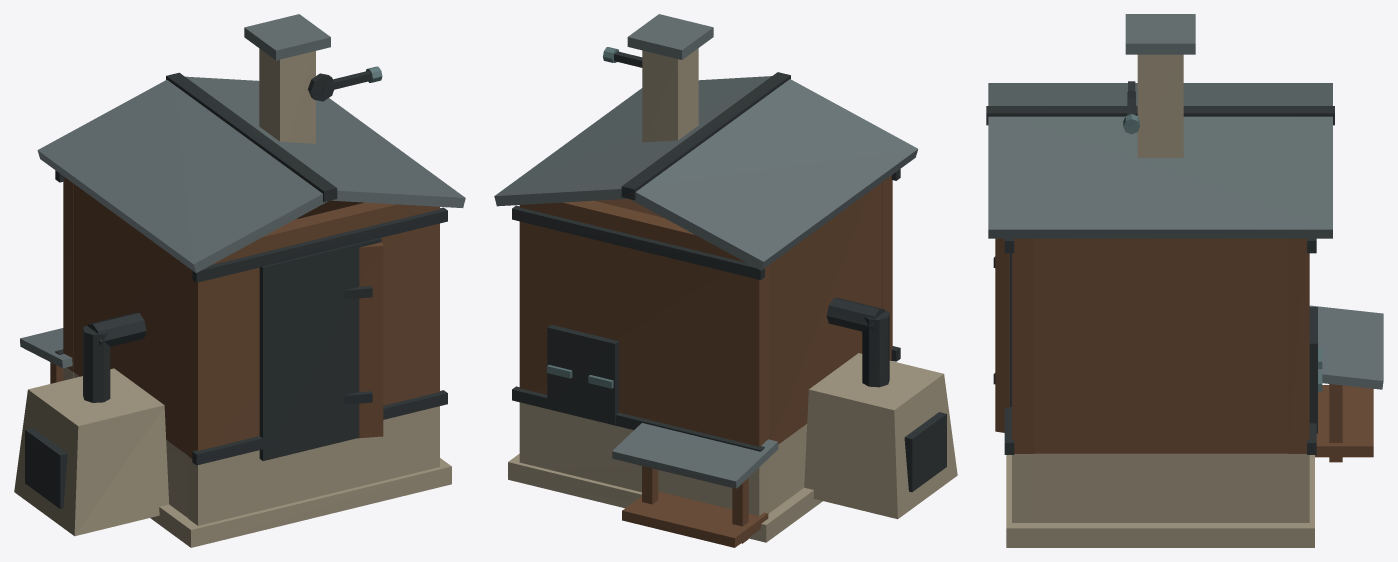
The model's file is smokehouse.source.glb.
3 views of the same model, side by side, from view 1: azimuth 30°, elevation 25°; view 2: azimuth 150°, elevation 25°; view 3: azimuth 270°, elevation 25° (orthographic). The views are drawn at different scales.
Parts seen in each view (by area): view 1: smokehouse-left-roof-panel-mesh, smokehouse-front-sealed-timber-wall-mesh, smokehouse-loading-door-dark-opening-mesh, smokehouse-left-sealed-timber-wall-mesh, smokehouse-masonry-firebox-body-mesh, smokehouse-front-stone-base-wall-mesh, smokehouse-right-roof-panel-mesh, smokehouse-foundation-slab-mesh, smokehouse-narrow-chimney-stack-mesh, smokehouse-heavy-timber-loading-door-mesh, smokehouse-front-sealing-band-2.72-mesh, smokehouse-roof-ridge-cap-mesh (+8 smaller); view 2: smokehouse-rear-sealed-timber-wall-mesh, smokehouse-left-roof-panel-mesh, smokehouse-left-sealed-timber-wall-mesh, smokehouse-masonry-firebox-body-mesh, smokehouse-right-roof-panel-mesh, smokehouse-rear-stone-base-wall-mesh, smokehouse-fuel-ledge-cover-mesh, smokehouse-rear-service-hatch-mesh, smokehouse-narrow-chimney-stack-mesh, smokehouse-empty-fuel-ledge-deck-mesh, smokehouse-foundation-slab-mesh, smokehouse-rear-sealing-band-2.72-mesh (+10 smaller); view 3: smokehouse-right-sealed-timber-wall-mesh, smokehouse-right-roof-panel-mesh, smokehouse-right-stone-base-wall-mesh, smokehouse-foundation-slab-mesh, smokehouse-left-roof-panel-mesh, smokehouse-fuel-ledge-cover-mesh, smokehouse-rear-sealed-timber-wall-mesh, smokehouse-narrow-chimney-stack-mesh, smokehouse-front-sealed-timber-wall-mesh, smokehouse-empty-fuel-ledge-deck-mesh, smokehouse-roof-ridge-cap-mesh, smokehouse-chimney-cap-mesh (+5 smaller).
Boxes of the visible parts, x1,y1,x2,y2 form: smokehouse-left-roof-panel-mesh: [37, 80, 327, 273]; smokehouse-front-sealed-timber-wall-mesh: [188, 202, 439, 458]; smokehouse-loading-door-dark-opening-mesh: [259, 238, 381, 460]; smokehouse-left-sealed-timber-wall-mesh: [73, 184, 188, 455]; smokehouse-masonry-firebox-body-mesh: [14, 368, 168, 536]; smokehouse-front-stone-base-wall-mesh: [188, 406, 439, 525]; smokehouse-right-roof-panel-mesh: [185, 76, 465, 207]; smokehouse-foundation-slab-mesh: [150, 458, 451, 547]; smokehouse-narrow-chimney-stack-mesh: [259, 48, 315, 143]; smokehouse-heavy-timber-loading-door-mesh: [358, 242, 383, 438]; smokehouse-front-sealing-band-2.72-mesh: [192, 207, 447, 282]; smokehouse-roof-ridge-cap-mesh: [166, 72, 337, 201]; smokehouse-rear-sealed-timber-wall-mesh: [519, 200, 768, 446]; smokehouse-left-roof-panel-mesh: [630, 79, 917, 270]; smokehouse-left-sealed-timber-wall-mesh: [769, 182, 882, 444]; smokehouse-masonry-firebox-body-mesh: [804, 353, 957, 519]; smokehouse-right-roof-panel-mesh: [494, 76, 771, 206]; smokehouse-rear-stone-base-wall-mesh: [519, 402, 768, 515]; smokehouse-fuel-ledge-cover-mesh: [612, 423, 778, 488]; smokehouse-rear-service-hatch-mesh: [547, 325, 618, 424]; smokehouse-narrow-chimney-stack-mesh: [642, 48, 698, 142]; smokehouse-empty-fuel-ledge-deck-mesh: [622, 491, 768, 547]; smokehouse-foundation-slab-mesh: [508, 454, 822, 542]; smokehouse-rear-sealing-band-2.72-mesh: [512, 205, 764, 279]; smokehouse-right-sealed-timber-wall-mesh: [1033, 238, 1287, 453]; smokehouse-right-roof-panel-mesh: [988, 116, 1332, 238]; smokehouse-right-stone-base-wall-mesh: [1033, 453, 1287, 522]; smokehouse-foundation-slab-mesh: [1006, 455, 1314, 547]; smokehouse-left-roof-panel-mesh: [988, 83, 1332, 105]; smokehouse-fuel-ledge-cover-mesh: [1309, 305, 1383, 389]; smokehouse-rear-sealed-timber-wall-mesh: [1287, 238, 1309, 453]; smokehouse-narrow-chimney-stack-mesh: [1137, 54, 1183, 157]; smokehouse-front-sealed-timber-wall-mesh: [1012, 238, 1033, 453]; smokehouse-empty-fuel-ledge-deck-mesh: [1315, 385, 1373, 457]; smokehouse-roof-ridge-cap-mesh: [986, 106, 1334, 125]; smokehouse-chimney-cap-mesh: [1125, 14, 1195, 54].
Bounding box in the file's own units: 3.72 × 4.27 × 3.28.
